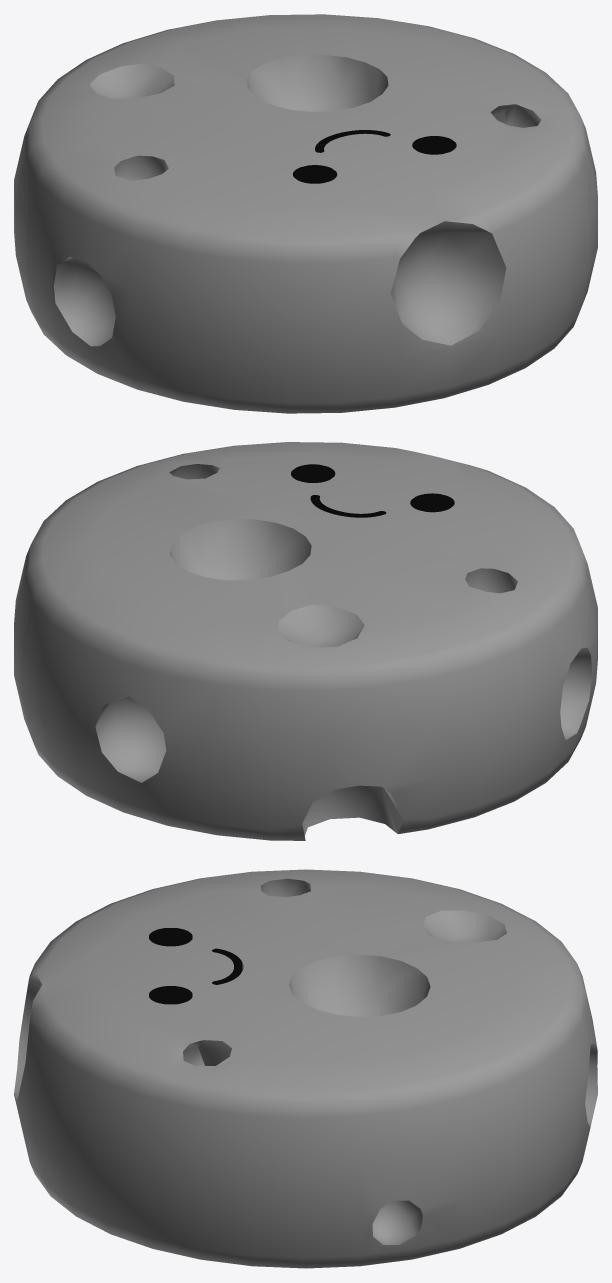
The model's file is orange_cheese_smile.fbx.
3 renders of one model, top to bottom at view 1: azimuth 30°, elevation 25°; view 2: azimuth 150°, elevation 25°; view 3: azimuth 270°, elevation 25°, orthographic.
Parts seen in each view (by area): view 1: orange_cheese_smile; view 2: orange_cheese_smile; view 3: orange_cheese_smile.
Part boxes in pixels (x1=…): orange_cheese_smile: x1=14, y1=14, x2=597, y2=413; orange_cheese_smile: x1=14, y1=442, x2=597, y2=840; orange_cheese_smile: x1=14, y1=869, x2=597, y2=1268.
Size of the model in its own units: 151 by 151 by 54.51.
Materials: 2 (1 with a texture image).
